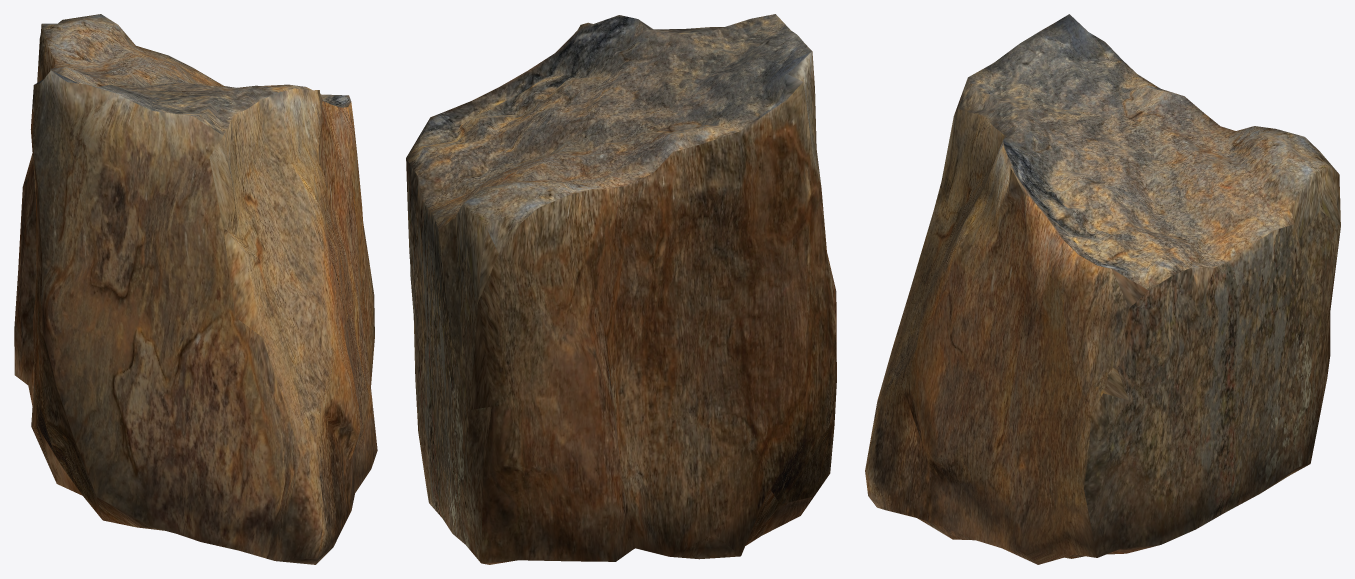
The model's file is namaqualand_boulder_03_hi.glb.
3 renders of one model, left to right at view 1: azimuth 30°, elevation 25°; view 2: azimuth 150°, elevation 25°; view 3: azimuth 270°, elevation 25°, orthographic. The views are drawn at different scales.
Parts seen in each view (by area): view 1: namaqualand_boulder_03_hi; view 2: namaqualand_boulder_03_hi; view 3: namaqualand_boulder_03_hi.
Boxes of the visible parts, x1,y1,x2,y2 form: namaqualand_boulder_03_hi: (14,14,377,564); namaqualand_boulder_03_hi: (406,14,836,564); namaqualand_boulder_03_hi: (865,14,1340,564).
Size of the model in its own units: 0.7851 by 0.9992 by 1.
Materials: 1 (1 with a texture image).
